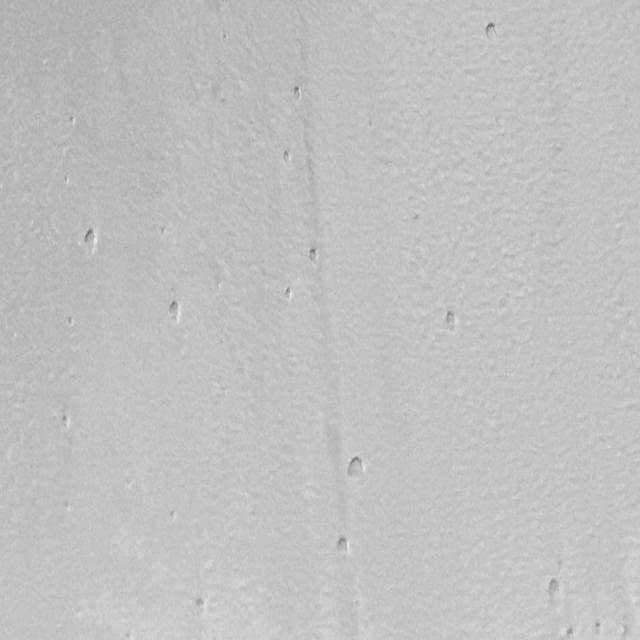pin holes: (345, 454, 371, 484), (79, 225, 100, 255), (441, 309, 463, 337), (544, 577, 566, 604), (165, 298, 185, 326), (482, 19, 504, 44), (190, 596, 211, 622), (333, 536, 354, 561), (277, 148, 297, 172), (305, 245, 324, 269), (57, 411, 75, 435), (291, 85, 307, 104), (284, 287, 298, 305), (563, 625, 579, 640), (591, 619, 604, 637), (166, 508, 178, 523)
